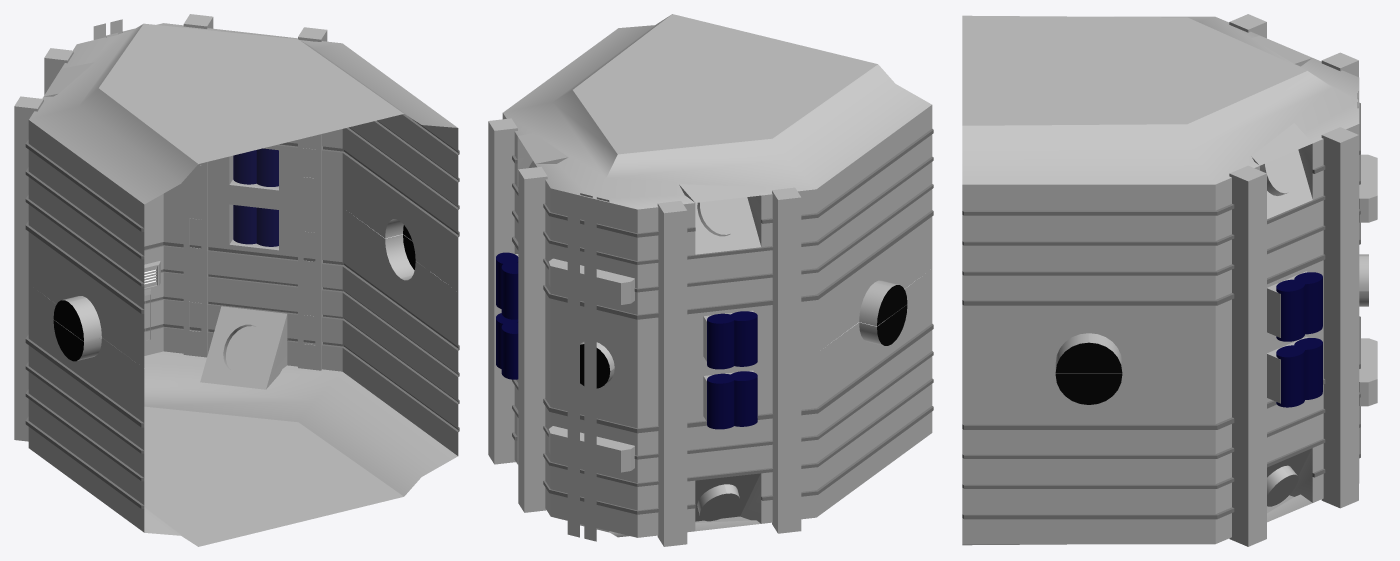
File: MapAnomalyAfueraBase2.fbx
The picture shows the model from 3 angles, left to right: view 1: azimuth 30°, elevation 25°; view 2: azimuth 150°, elevation 25°; view 3: azimuth 270°, elevation 25°; orthographic projection. The views are drawn at different scales.
Visible parts, largest first — view 1: Cube.001; view 2: Cube.001; view 3: Cube.001.
Boxes of the visible parts, x1,y1,x2,y2 form: Cube.001: (14, 14, 459, 546); Cube.001: (488, 14, 933, 546); Cube.001: (962, 14, 1377, 546).
Bounding box in the file's own units: 467 × 489 × 447.
